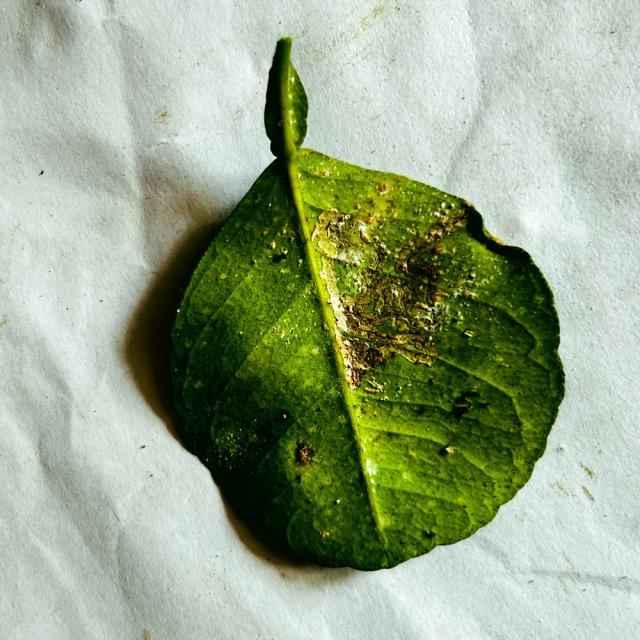Bacterial_Blight: (341, 316, 437, 366), (350, 283, 411, 339), (400, 238, 451, 285), (314, 208, 358, 250), (345, 339, 391, 378), (392, 241, 419, 273), (370, 244, 391, 270)
Lemon: (166, 38, 565, 574)
